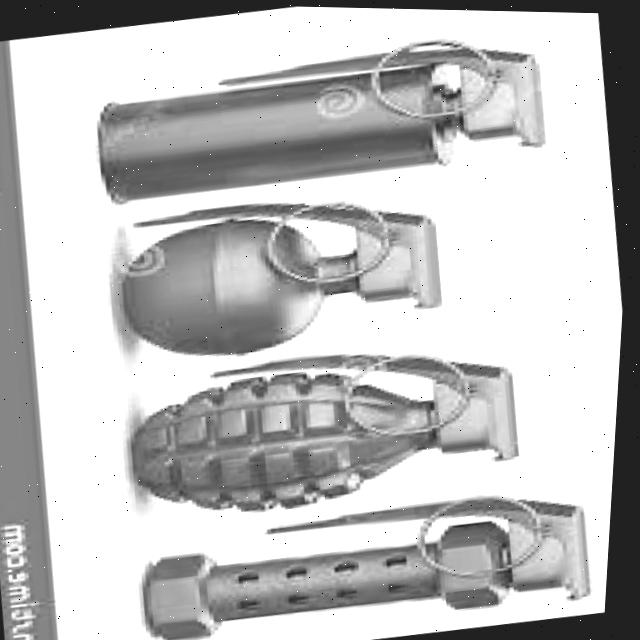grenade: (52, 6, 621, 640)
